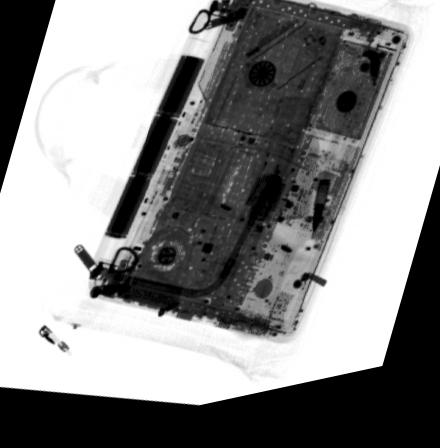Bullet: (311, 191, 332, 247)
